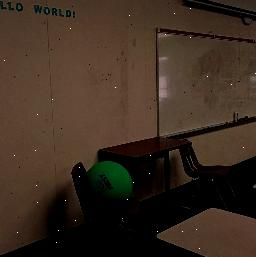algae: (84, 157, 134, 202)
